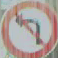Don't turn left: (5, 3, 54, 53)
